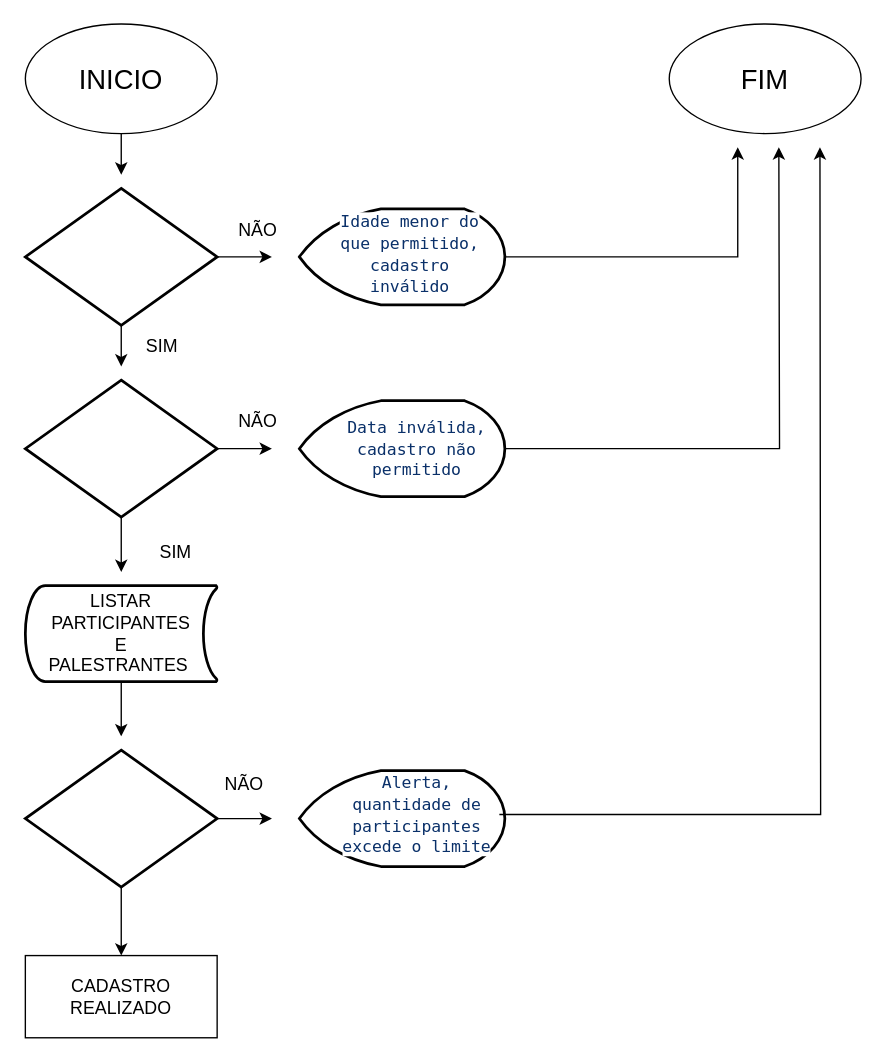
This 885x1062 diagram has some shape labels left out. Here are the shapes that lost their labels. From the top down, the centre of each, then its label:
the point at 120,256: MAIOR DE 18 ANOS?
the point at 120,448: DATA DO EVENTO> DATA ATUAL
the point at 120,818: ATÉ 100 PARTICIPANTES
